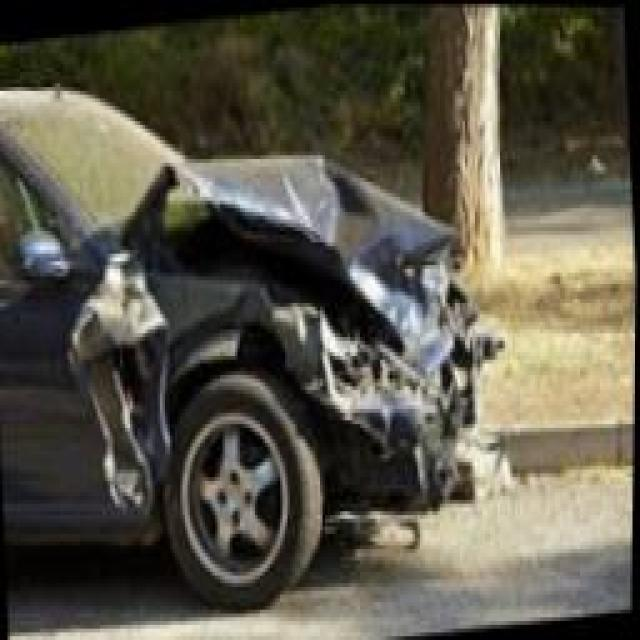Bonnet: (117, 149, 471, 386)
Bumper: (313, 284, 503, 509)
Fender: (63, 262, 233, 512)
